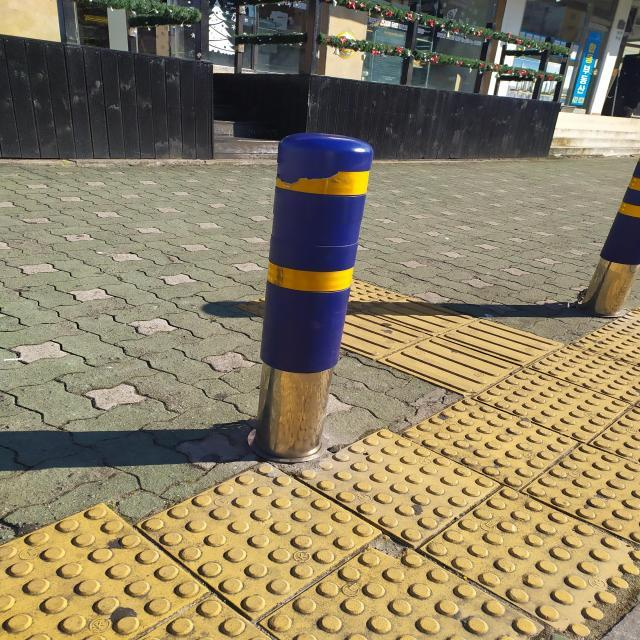pole: (254, 130, 366, 467)
